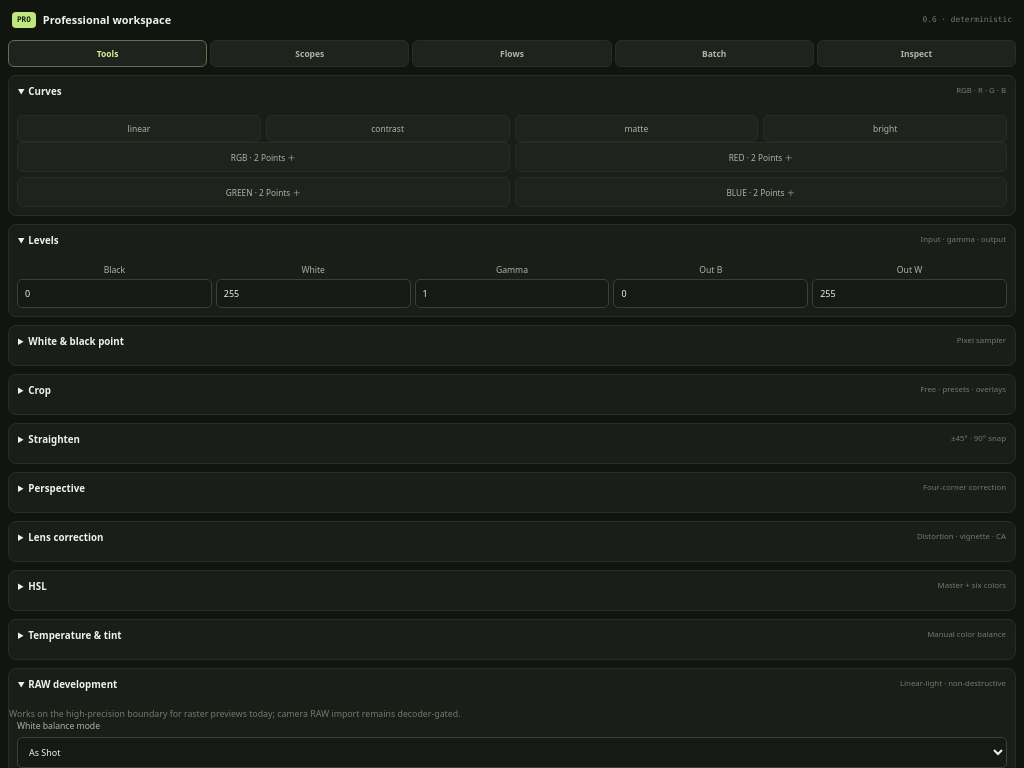
Scenario: ProfessionalWorkspace › shows live before and after histogram
The width and height of the screenshot is (1024, 768).
What coordinates should you click on to do the following:
click the tab "Scopes"
I would click on:
 (310, 53)
Its box is [210,40,409,67].
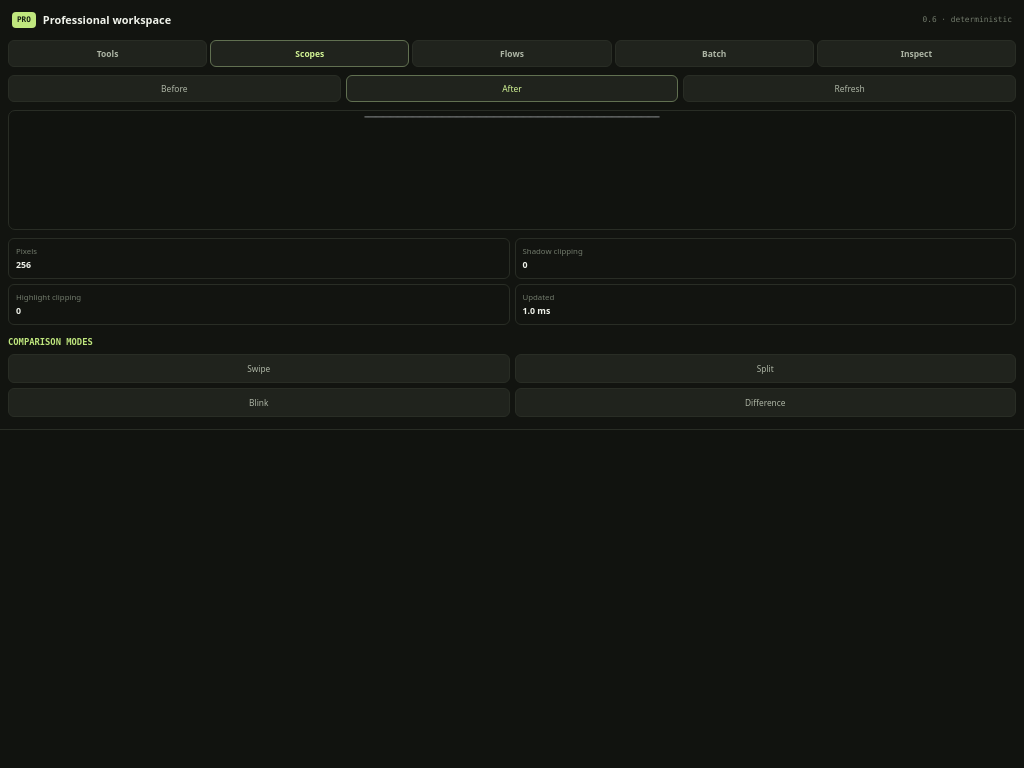
Expected: the picture named "after RGB" is shown, [8,110,1016,230]
Expected: the text "Shadow clipping" is shown, [522,246,583,256]
